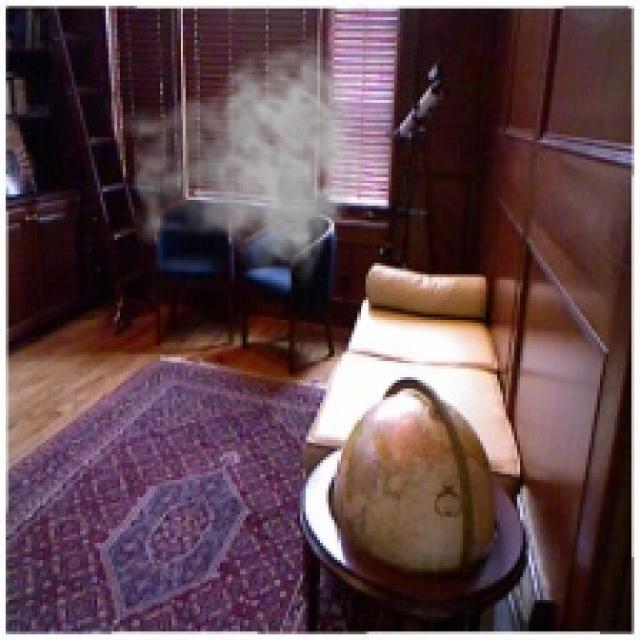smoke: (114, 34, 369, 289)
